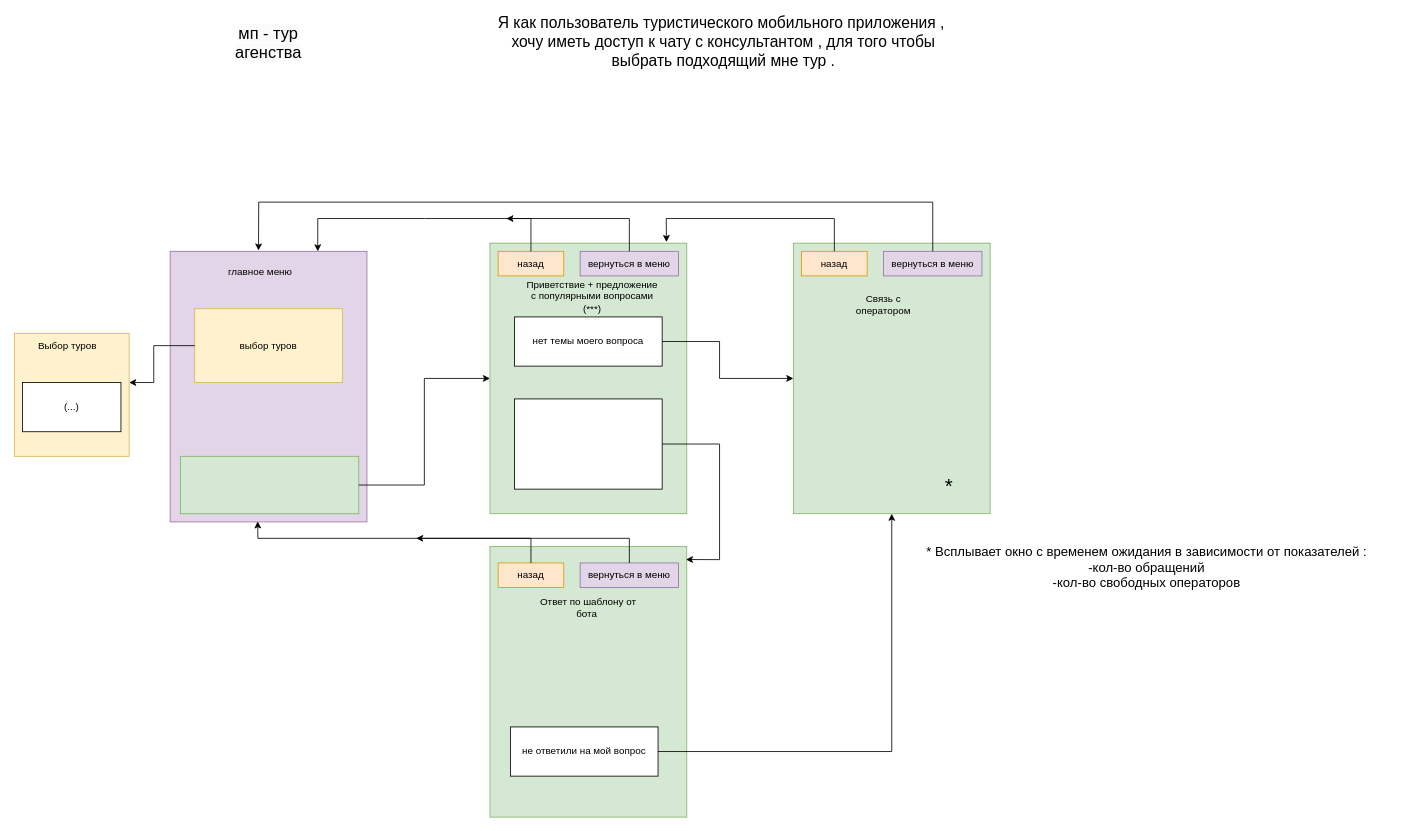
Some shapes in this 1407 by 831 pixel diagram are drawn without their labels. The shapes that lost their labels are listed below. From the top down, each one's centre as x and y in pixels, then its label:
At (588,443): "да , вопрос по одной из тем (***)".
At (269,485): "чат с консультантом".
